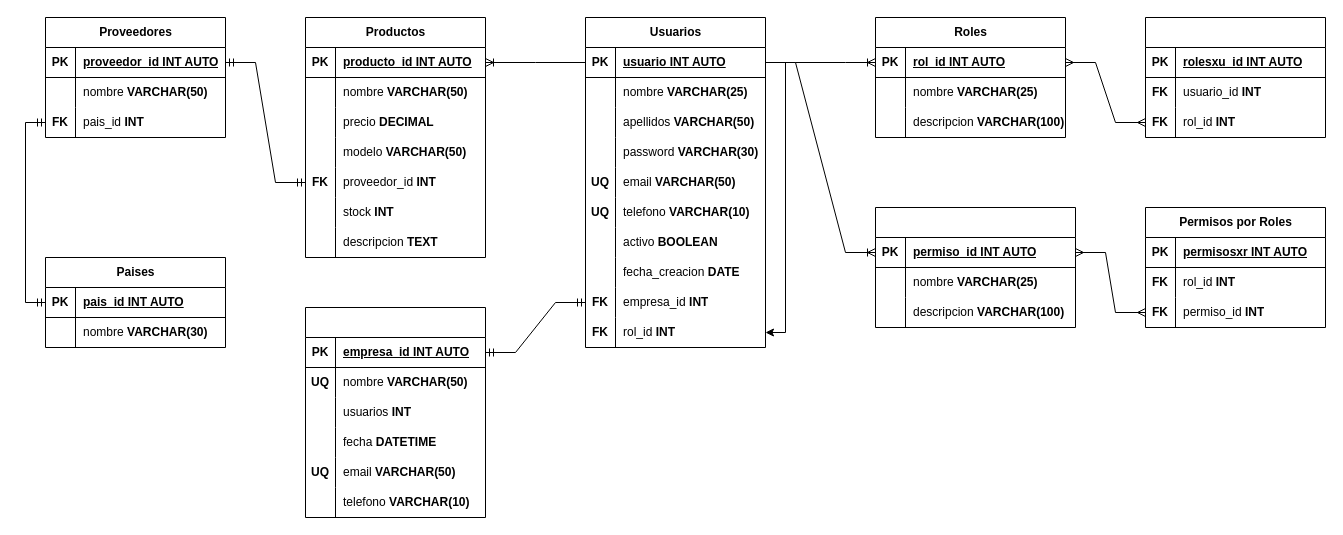
Image size: 1343x535. Some labels were removed from this diagram. Each missing label, with the box of its shape:
Empresas: (304, 306, 486, 518)
Permisos: (874, 206, 1076, 328)
Roles por Usuario: (1144, 16, 1326, 138)
